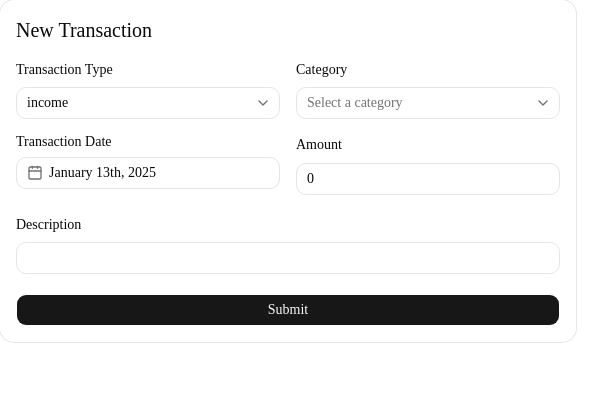
Test: TransactionForm › failed submission › shows the error message and keeps the entered values
Click the dropdown labelled "category".
click(355, 103)  # box [296,87,560,119]
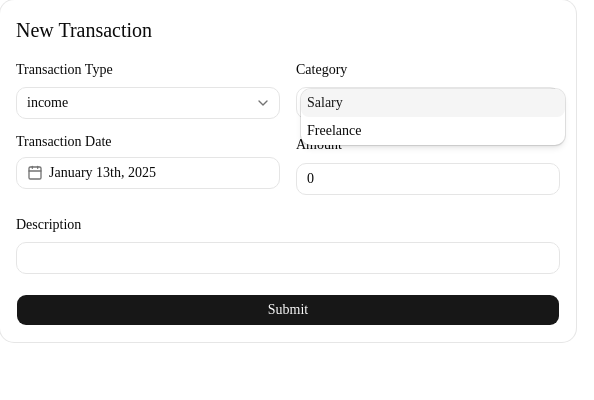
Click the option "Salary".
click(325, 103)  # box [301,89,565,117]
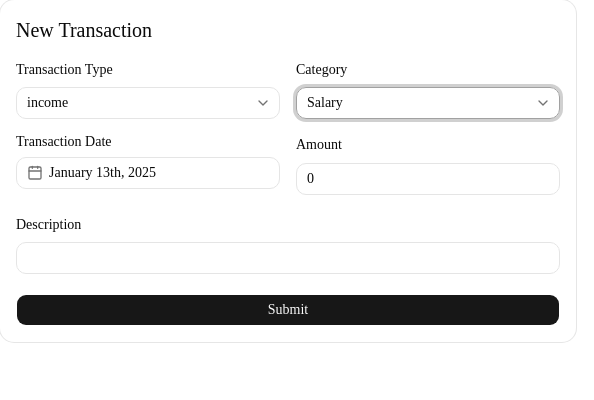
Replace the text in the number field labelled "Amount" with "25.5" at (428, 178), box [296,162,560,194]
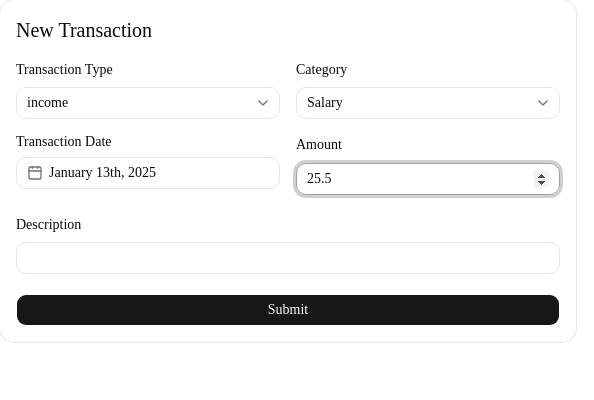
Type "March pay" into the field labelled "Description".
click(288, 258); type("March pay")  # box [16,242,560,274]
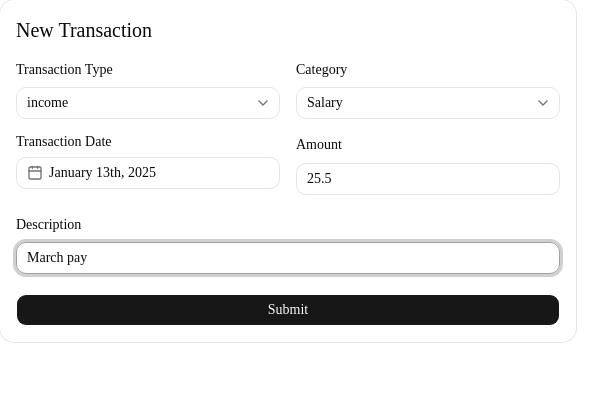
Click the button "Submit".
click(288, 310)  # box [16,294,560,326]
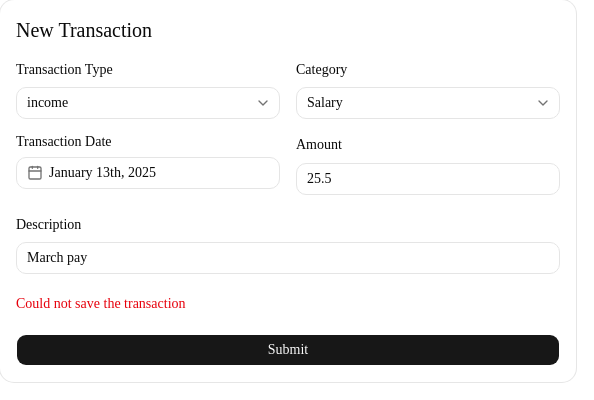
Check: the text "Could not save the transaction" is shown, box [16,296,186,311]
